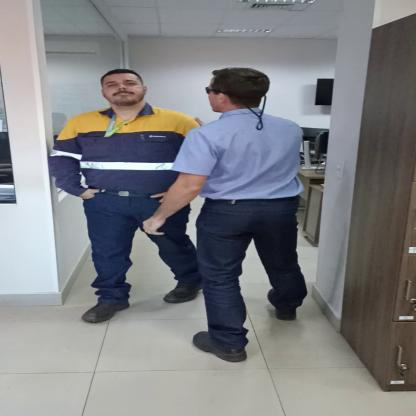Operacional: (51, 106, 200, 195)
